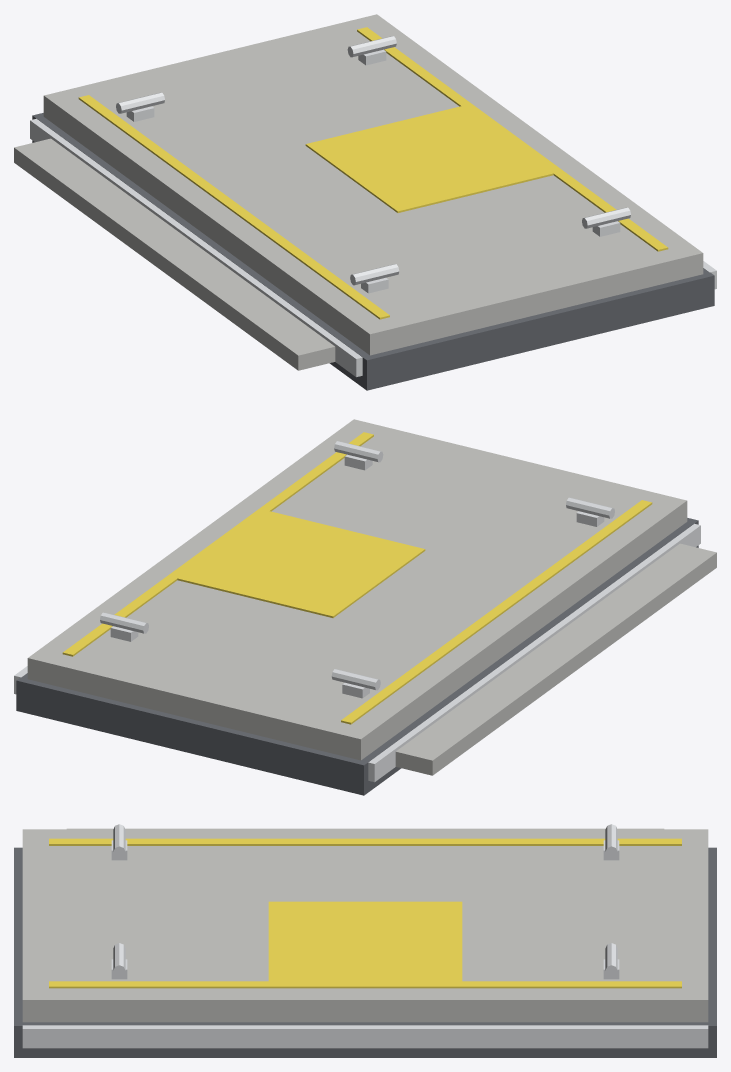
Rendered from marina-and-yacht-club-marina-and-yacht-club-tender-pon-fe2d4e90__38286.glb.
3 views of the same model, one above another, from view 1: azimuth 30°, elevation 25°; view 2: azimuth 150°, elevation 25°; view 3: azimuth 270°, elevation 25° (orthographic). The views are drawn at different scales.
Parts seen in each view (by area): view 1: marina-and-yacht-club-tender-pontoon; view 2: marina-and-yacht-club-tender-pontoon; view 3: marina-and-yacht-club-tender-pontoon.
Boxes of the visible parts, box(x1,y1,x2,y2) form: marina-and-yacht-club-tender-pontoon: box(14, 14, 716, 390); marina-and-yacht-club-tender-pontoon: box(14, 419, 716, 795); marina-and-yacht-club-tender-pontoon: box(14, 824, 716, 1057).
Bounding box in the file's own units: 2.75 × 0.4651 × 4.
